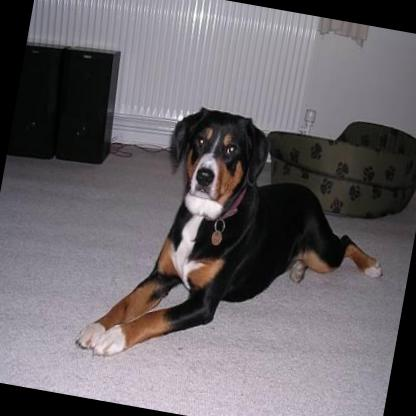EntleBucher: (73, 90, 405, 402)
